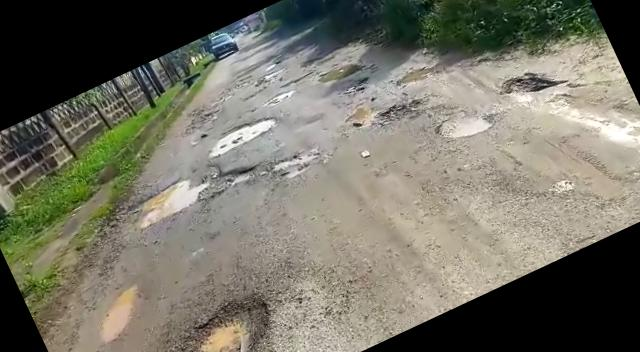pothole: (135, 279, 306, 352), (120, 149, 254, 235), (201, 107, 281, 158), (431, 96, 498, 152), (394, 54, 446, 92), (263, 85, 297, 106)
